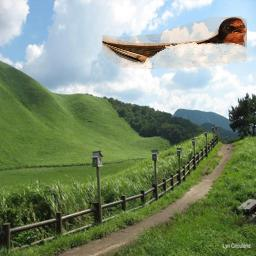Swallow: (102, 16, 247, 69)
